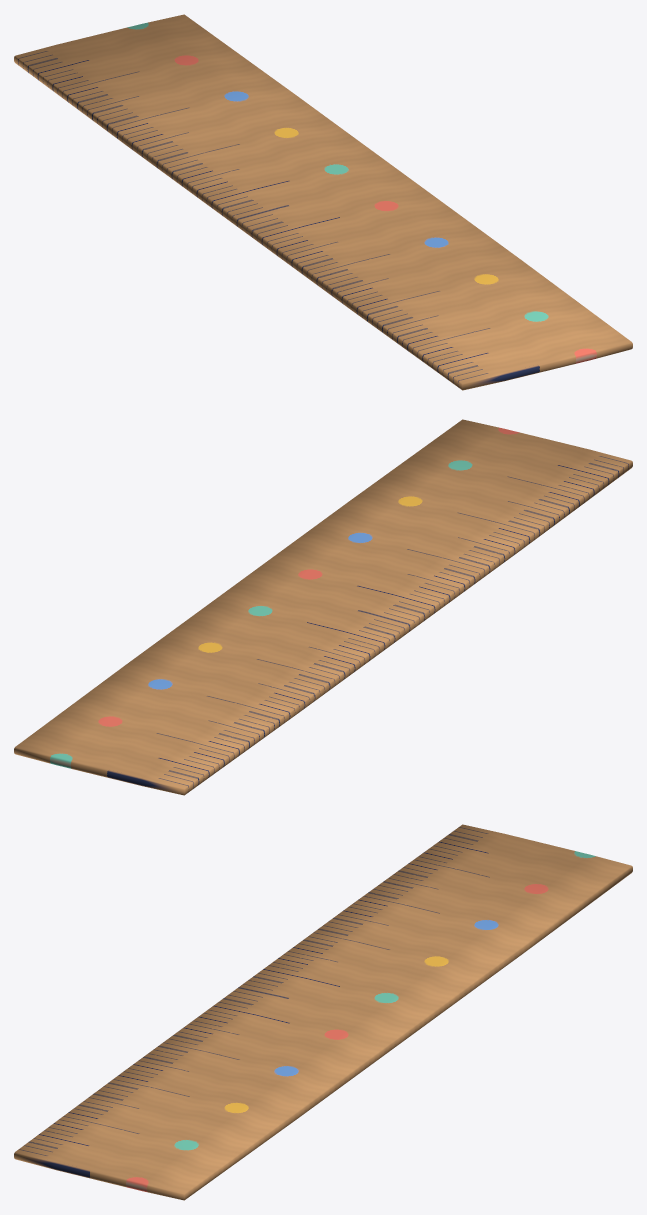
Rendered from ramp_ruler.glb.
3 renders of one model, top to bottom at view 1: azimuth 30°, elevation 25°; view 2: azimuth 150°, elevation 25°; view 3: azimuth 330°, elevation 25°, orthographic.
Parts seen in each view (by area): view 1: RampRuler; view 2: RampRuler; view 3: RampRuler.
Boxes of the visible parts, bbox=[...] form: RampRuler: bbox=[14, 14, 632, 390]; RampRuler: bbox=[14, 419, 632, 795]; RampRuler: bbox=[14, 824, 632, 1200].
Size of what is drawn, in the model's own units: 0.2 by 0.012 by 0.9.
Materials: 1 (1 with a texture image).
